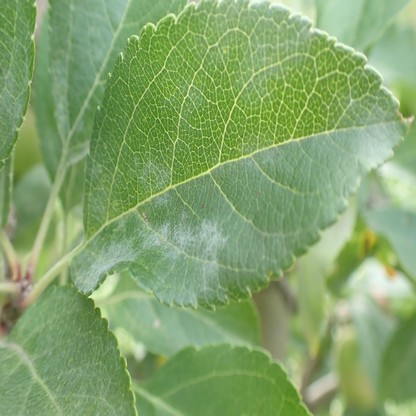powdery_mildew: (71, 164, 230, 312), (0, 282, 138, 415), (0, 2, 36, 169), (48, 53, 67, 137)
